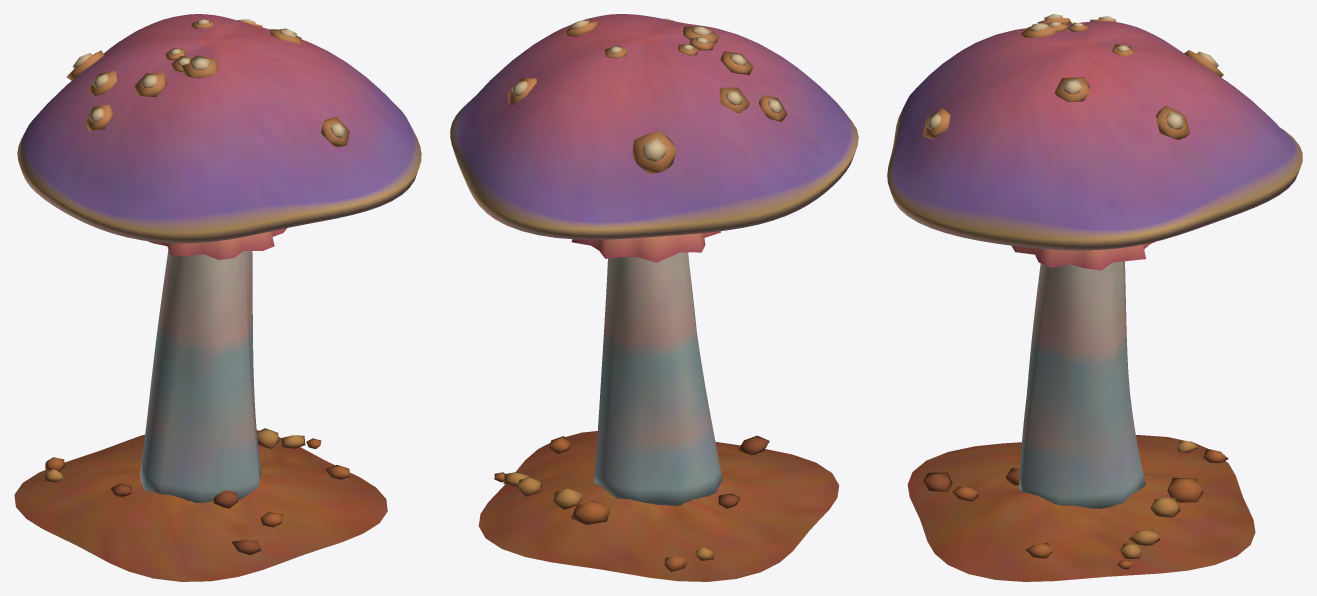
File: mantar_kucuk.glb
3 views of the same model, side by side, from view 1: azimuth 30°, elevation 25°; view 2: azimuth 150°, elevation 25°; view 3: azimuth 270°, elevation 25° (orthographic). The views are drawn at different scales.
Visible parts, largest first — view 1: mantar_kucuk_LOD0; view 2: mantar_kucuk_LOD0; view 3: mantar_kucuk_LOD0.
Part boxes in pixels (bbox=[...]): mantar_kucuk_LOD0: bbox=[14, 14, 421, 581]; mantar_kucuk_LOD0: bbox=[450, 14, 858, 581]; mantar_kucuk_LOD0: bbox=[887, 14, 1302, 581].
Size of what is drawn, in the model's own units: 2.5 by 3.18 by 2.52.
